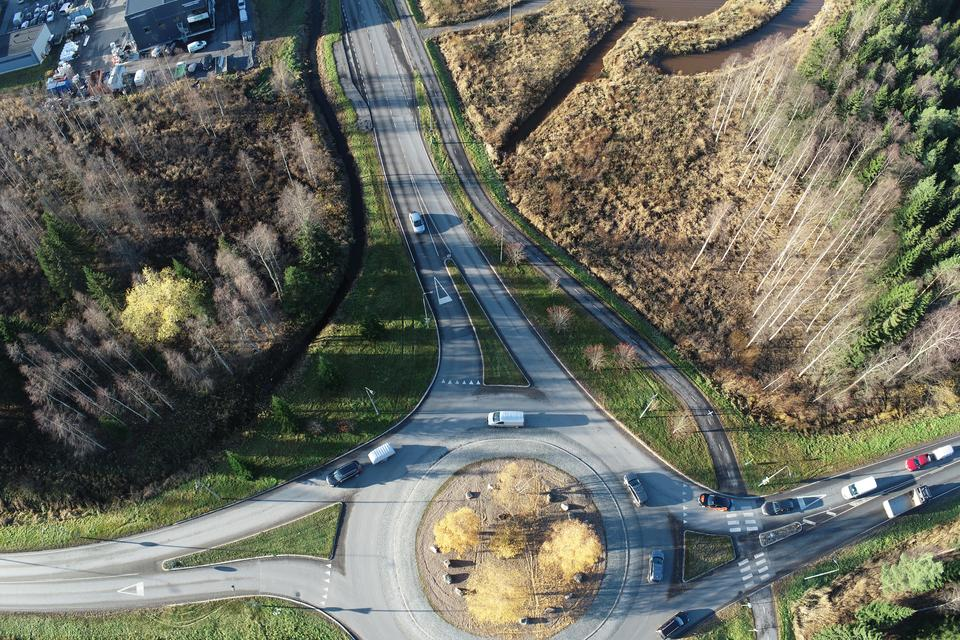intersection: (707, 465, 806, 628)
roundabout: (277, 326, 701, 640)
